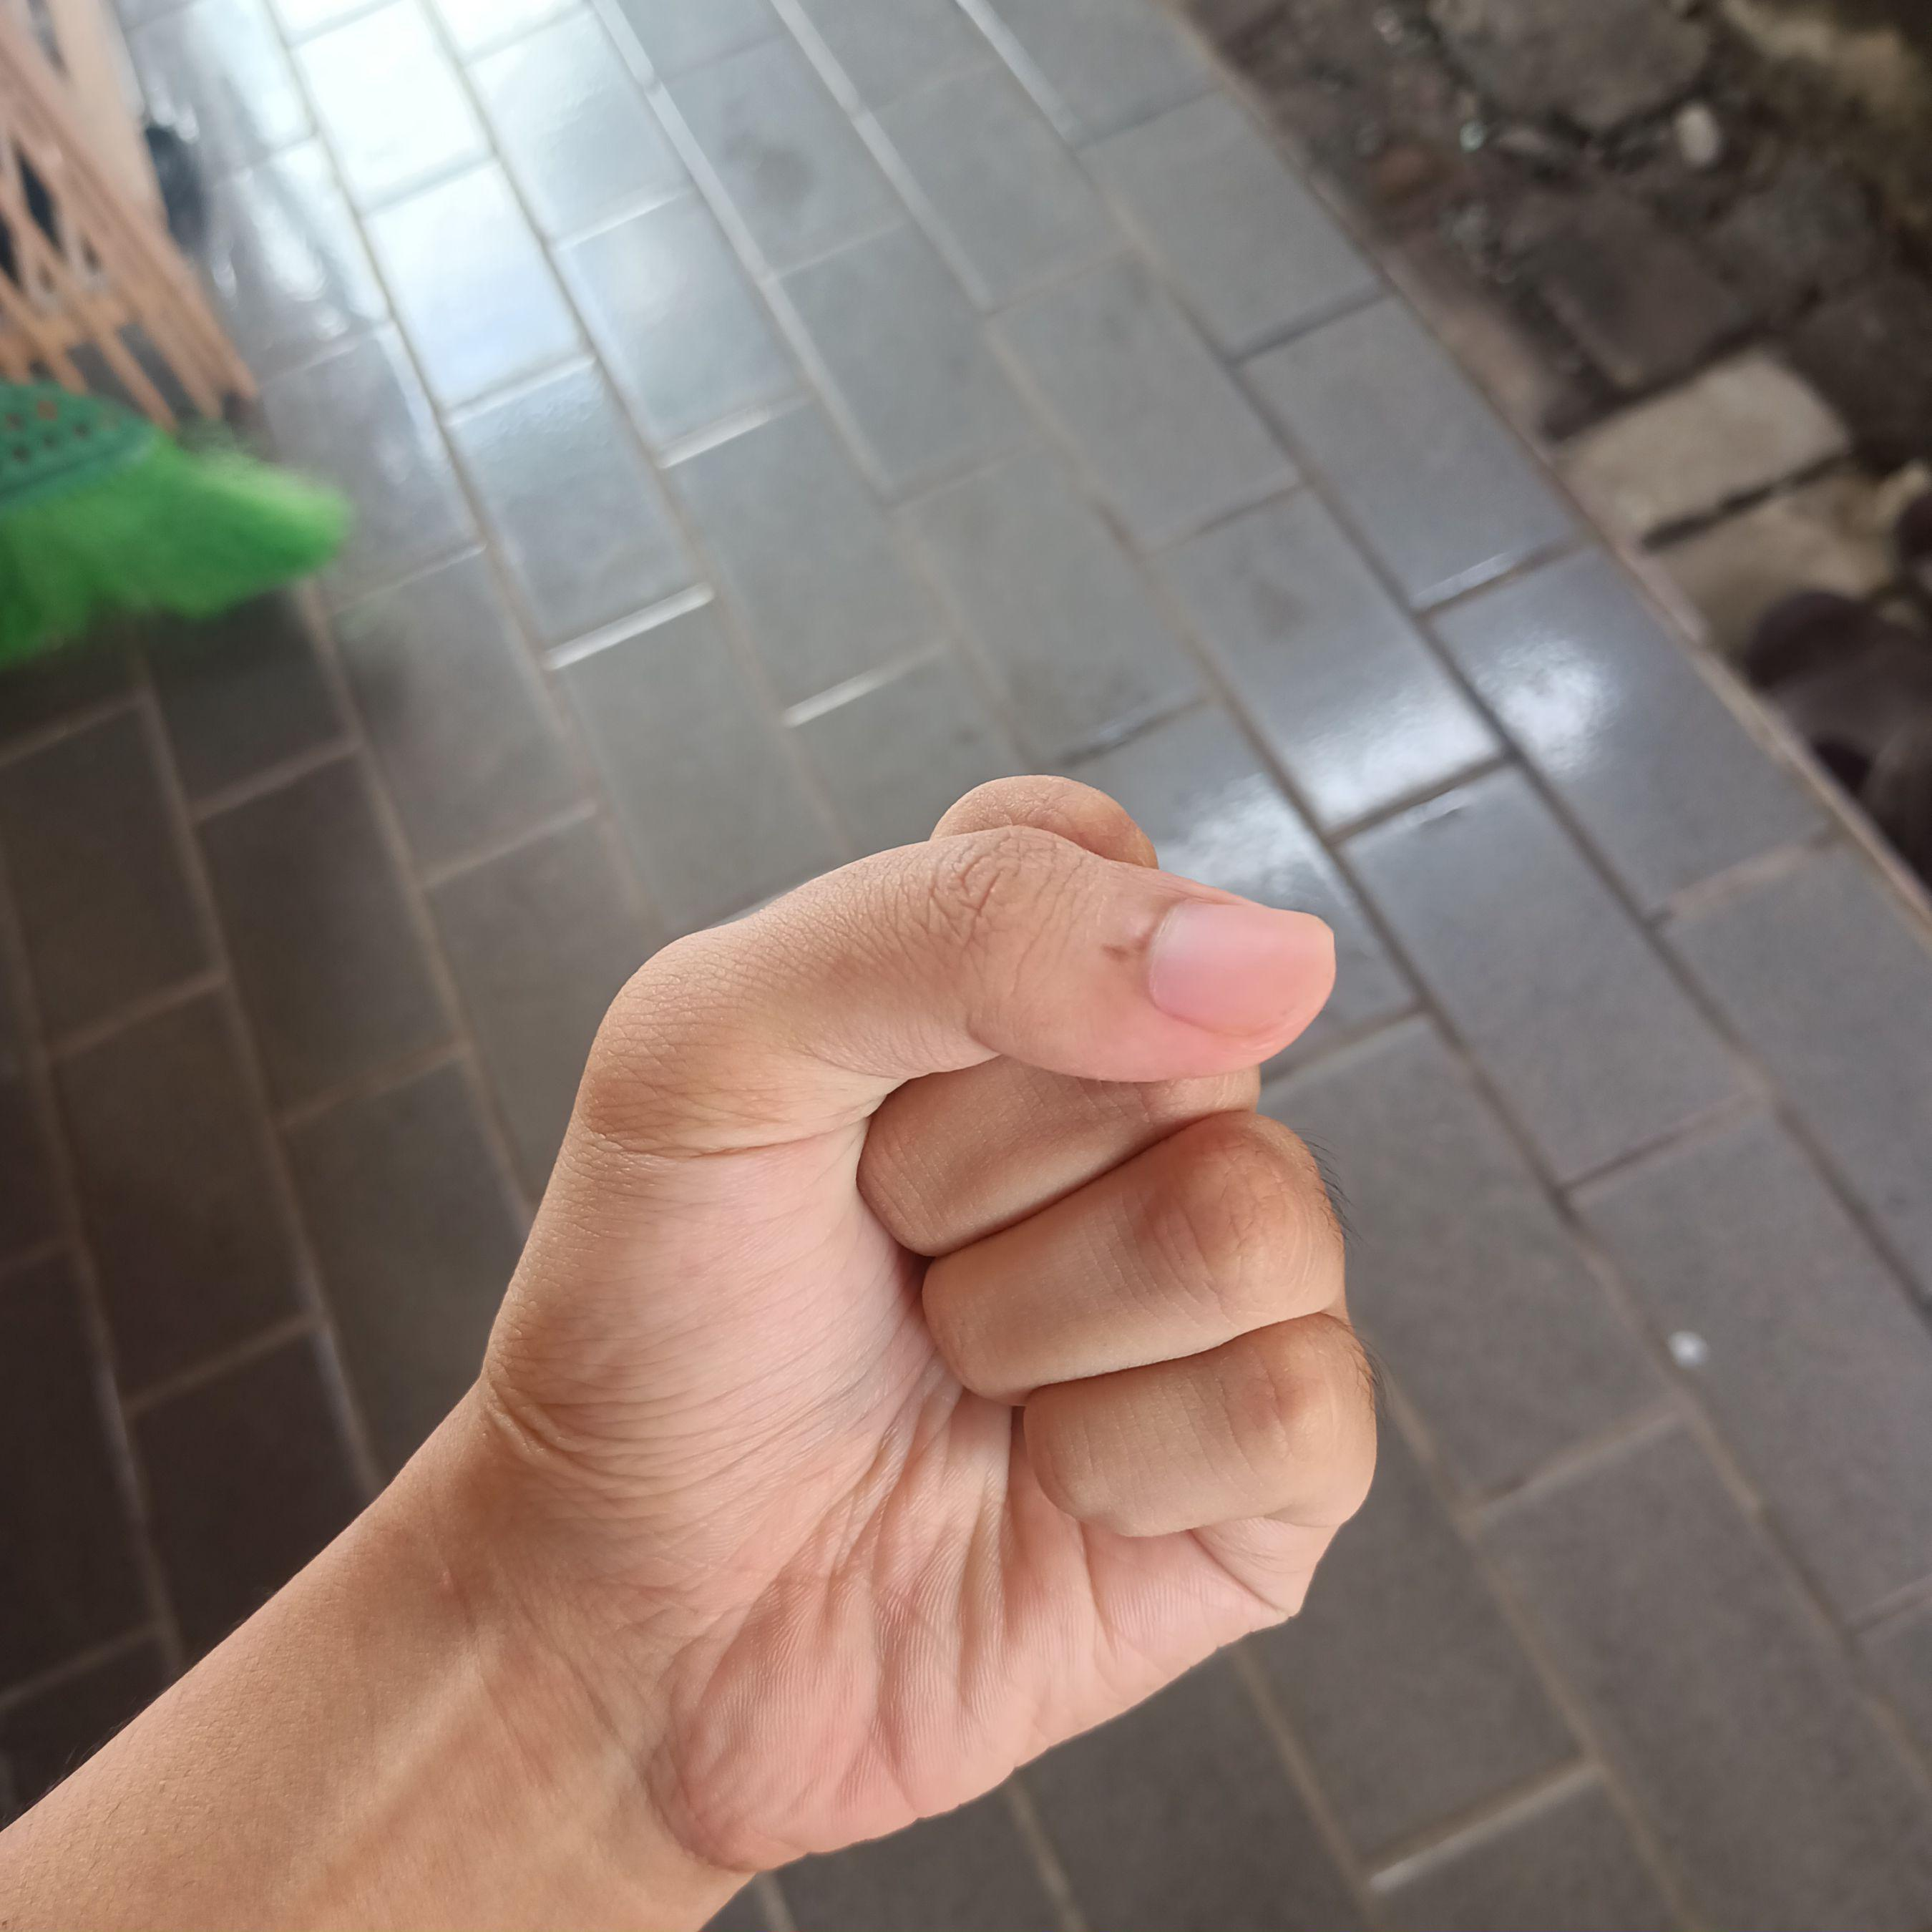rock: (425, 748, 1376, 1916)
